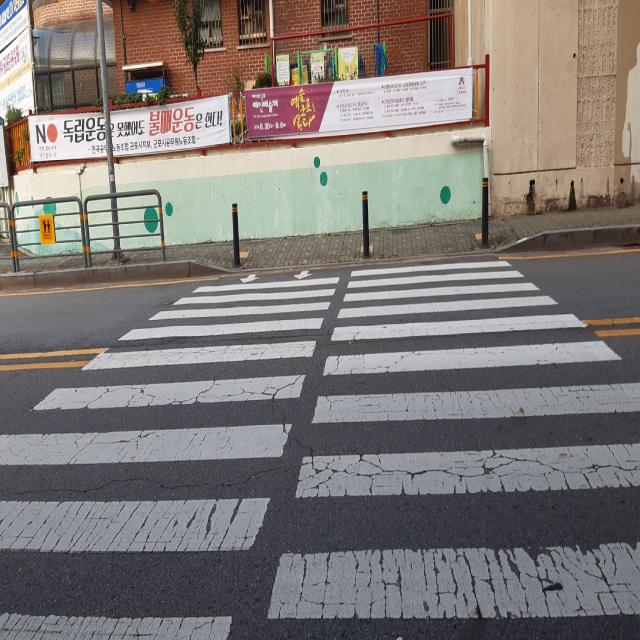횡단보도: (0, 260, 640, 640)
